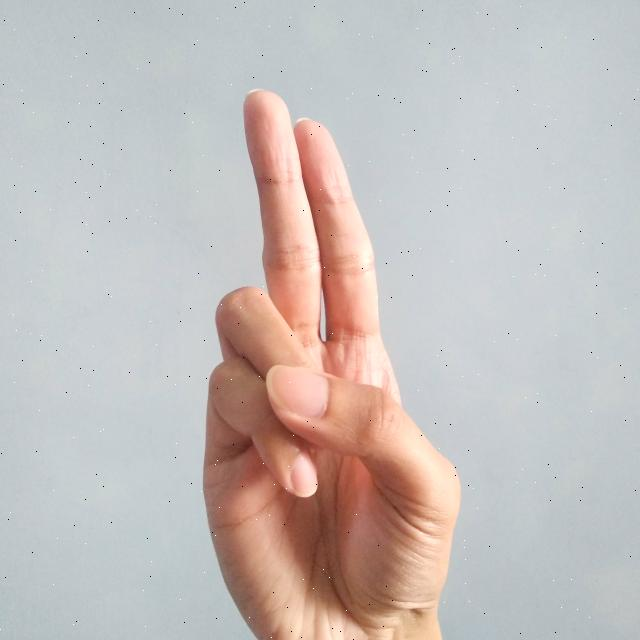U: (194, 81, 465, 640)
